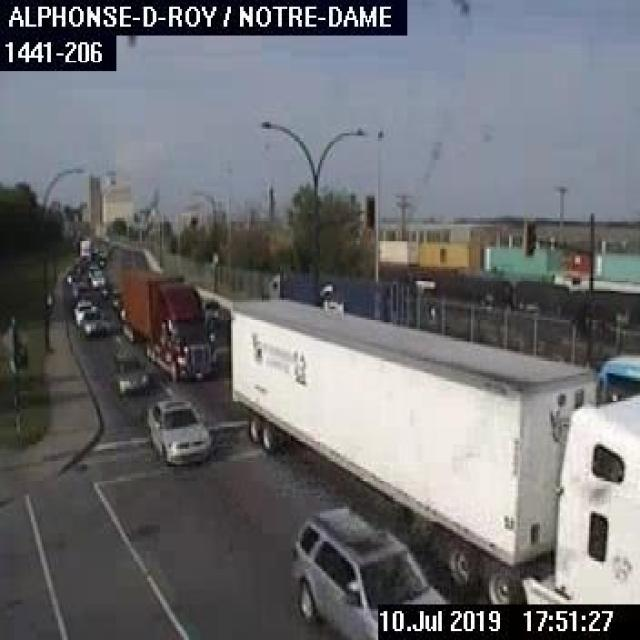bus: (593, 343, 638, 408)
vehicle: (224, 294, 638, 602), (286, 502, 449, 635), (115, 267, 216, 382), (144, 393, 211, 462), (113, 353, 152, 397), (82, 310, 106, 336), (72, 298, 96, 324), (90, 270, 106, 289)
